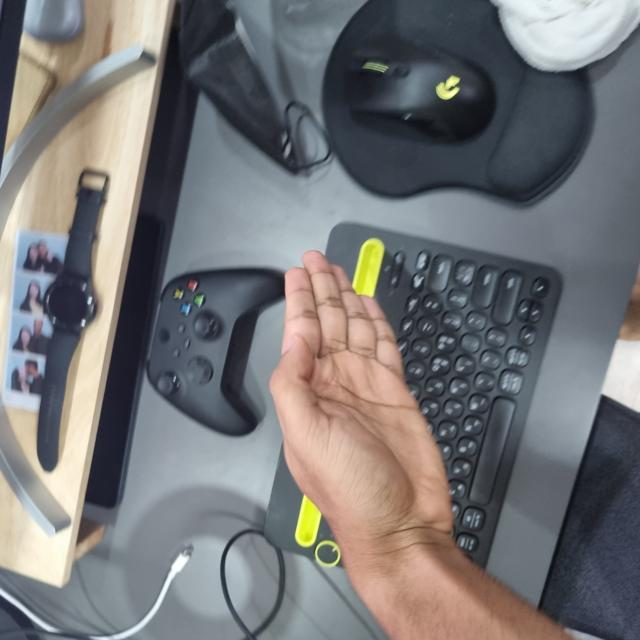Paper: (86, 273, 382, 448)
